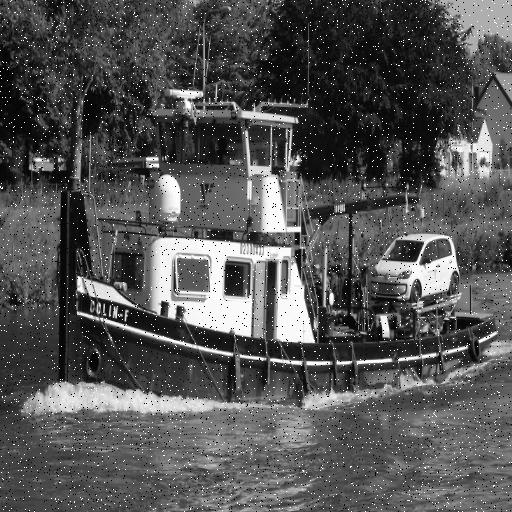tugboat: (54, 19, 503, 423)
